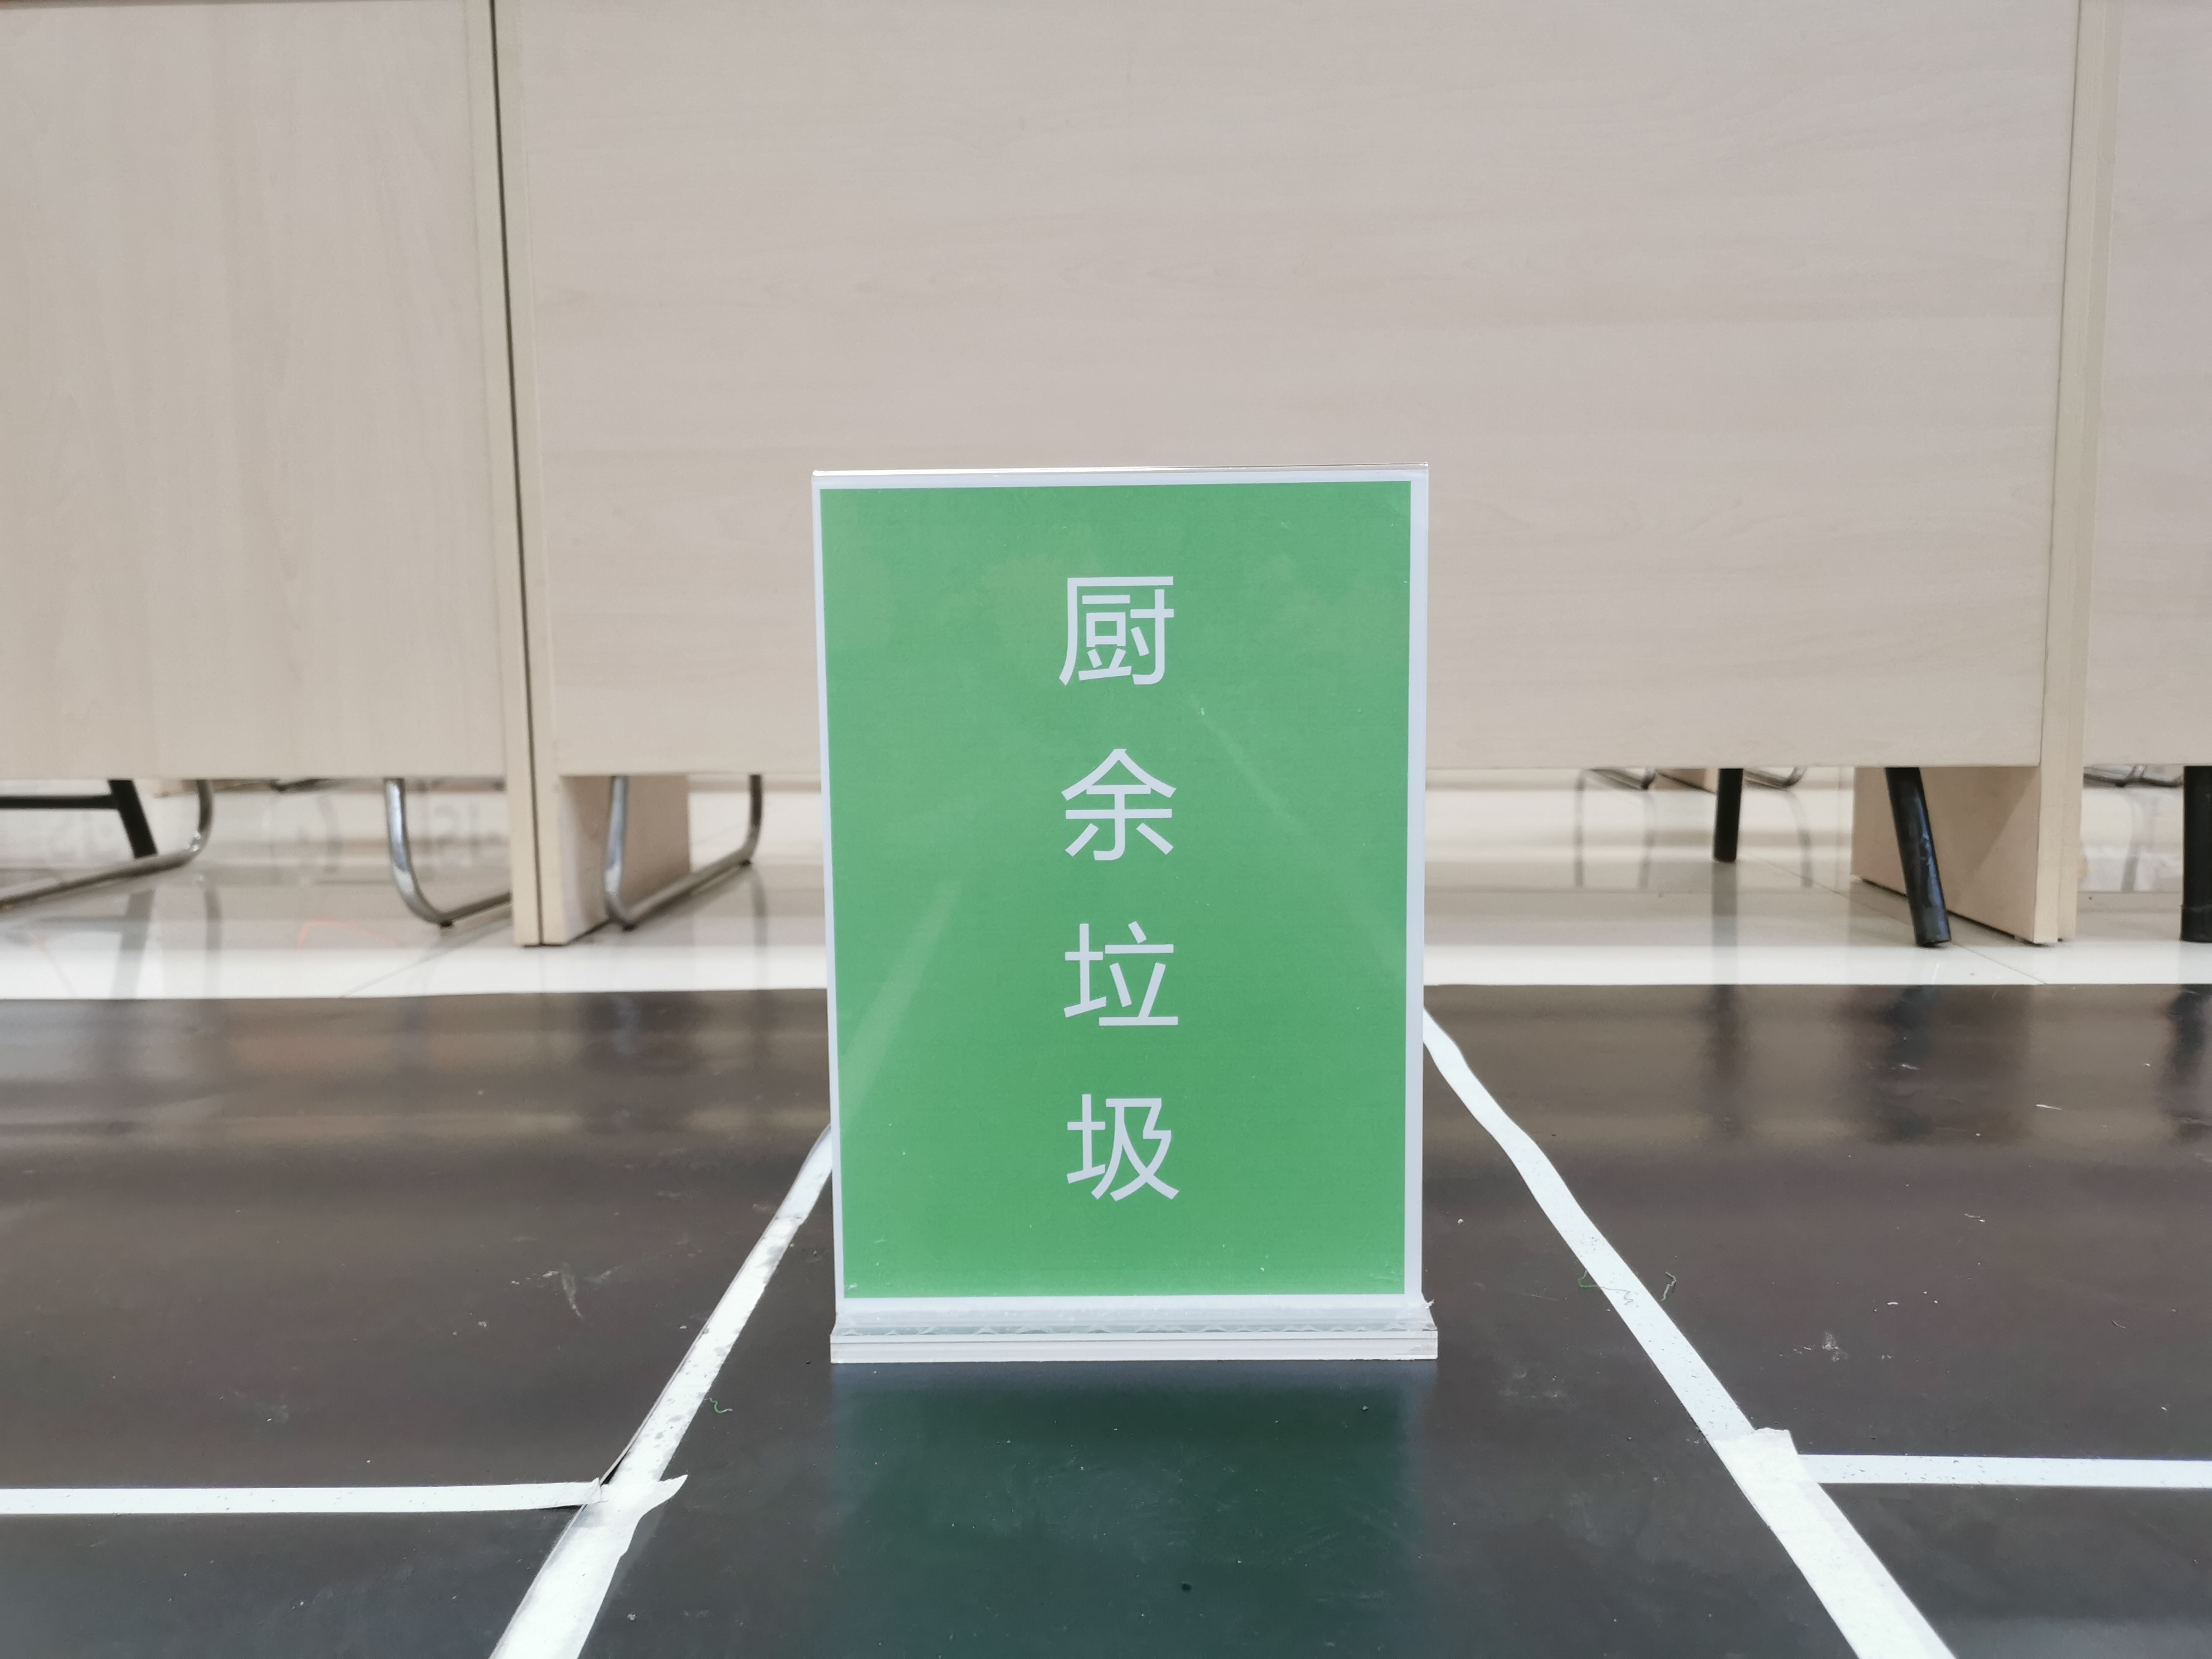green: (843, 495, 1402, 1290)
